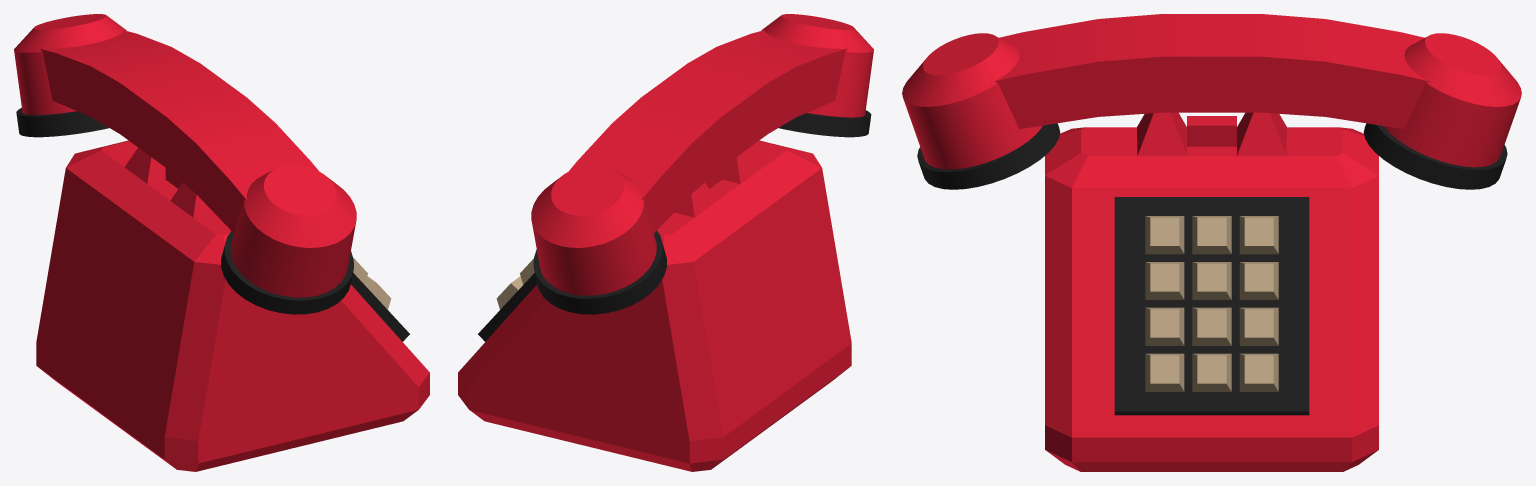
File: phone.fbx
The picture shows the model from 3 angles, left to right: view 1: azimuth 30°, elevation 25°; view 2: azimuth 150°, elevation 25°; view 3: azimuth 270°, elevation 25°; orthographic projection. The views are drawn at different scales.
Parts seen in each view (by area): view 1: Cube, Cube.001, Cube.002, Cube.003; view 2: Cube, Cube.001, Cube.002, Cube.003; view 3: Cube, Cube.001, Cube.002, Cube.003.
Boxes of the visible parts, bbox=[...] form: Cube: bbox=[36, 140, 429, 471]; Cube.001: bbox=[14, 14, 356, 314]; Cube.002: bbox=[351, 273, 409, 341]; Cube.003: bbox=[353, 257, 391, 309]; Cube: bbox=[458, 140, 851, 471]; Cube.001: bbox=[531, 14, 873, 314]; Cube.002: bbox=[478, 273, 536, 341]; Cube.003: bbox=[496, 258, 534, 309]; Cube: bbox=[1045, 112, 1378, 471]; Cube.001: bbox=[902, 14, 1521, 189]; Cube.002: bbox=[1114, 197, 1309, 415]; Cube.003: bbox=[1145, 216, 1278, 391].
Size of the model in its own units: 200 by 230 by 371.
